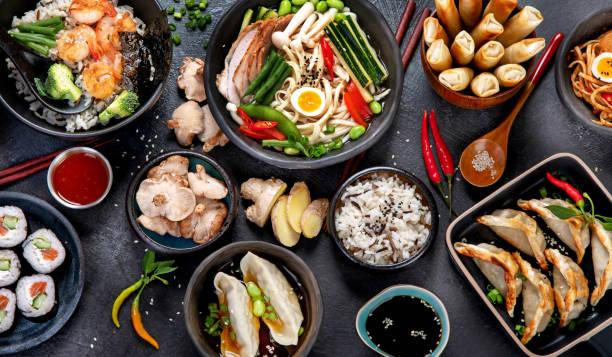Braised Crucian Carp: (444, 153, 611, 354), (203, 2, 396, 172), (0, 1, 171, 139), (182, 241, 320, 356), (1, 190, 86, 355), (419, 0, 540, 110), (125, 149, 238, 256), (328, 165, 436, 270)
